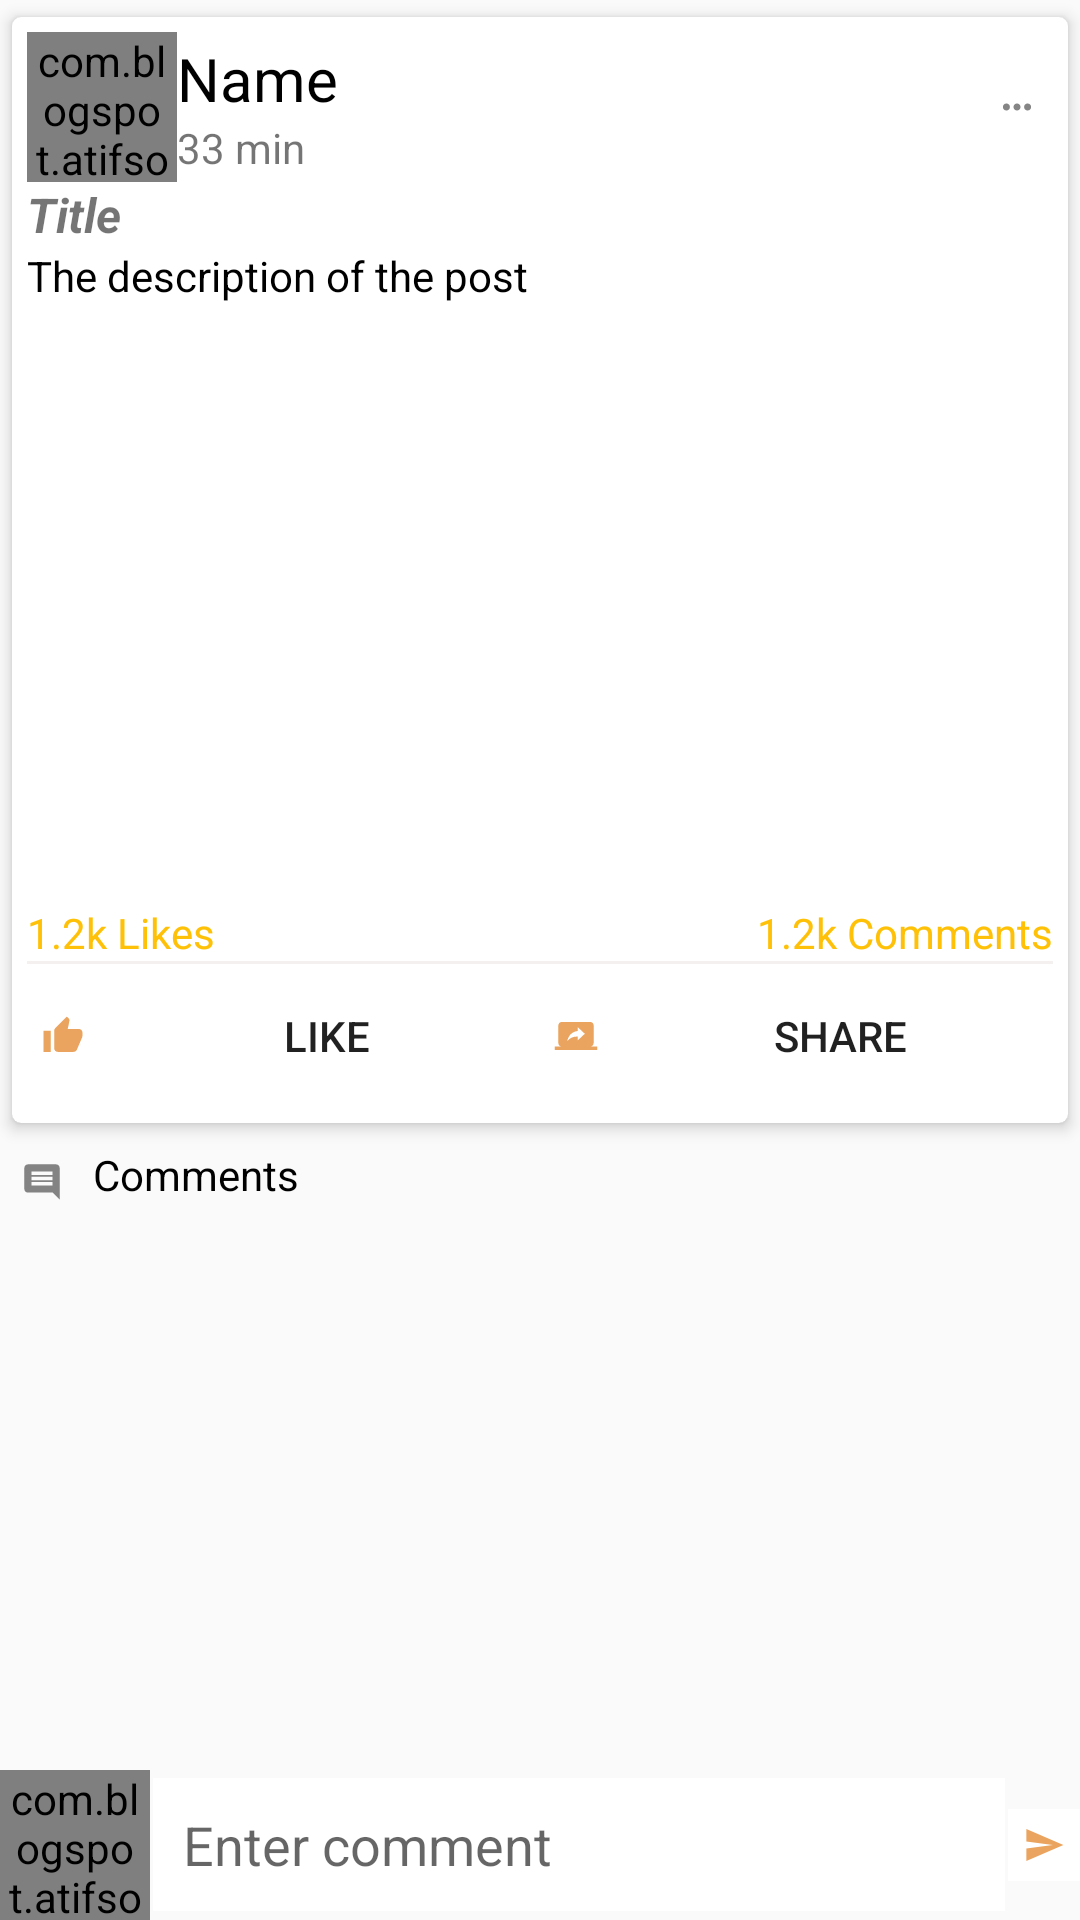

Named icons in this screenshot (1080 x 1920) and their centers, [x,y]:
more: [1017,107]
send: [1044,1845]
